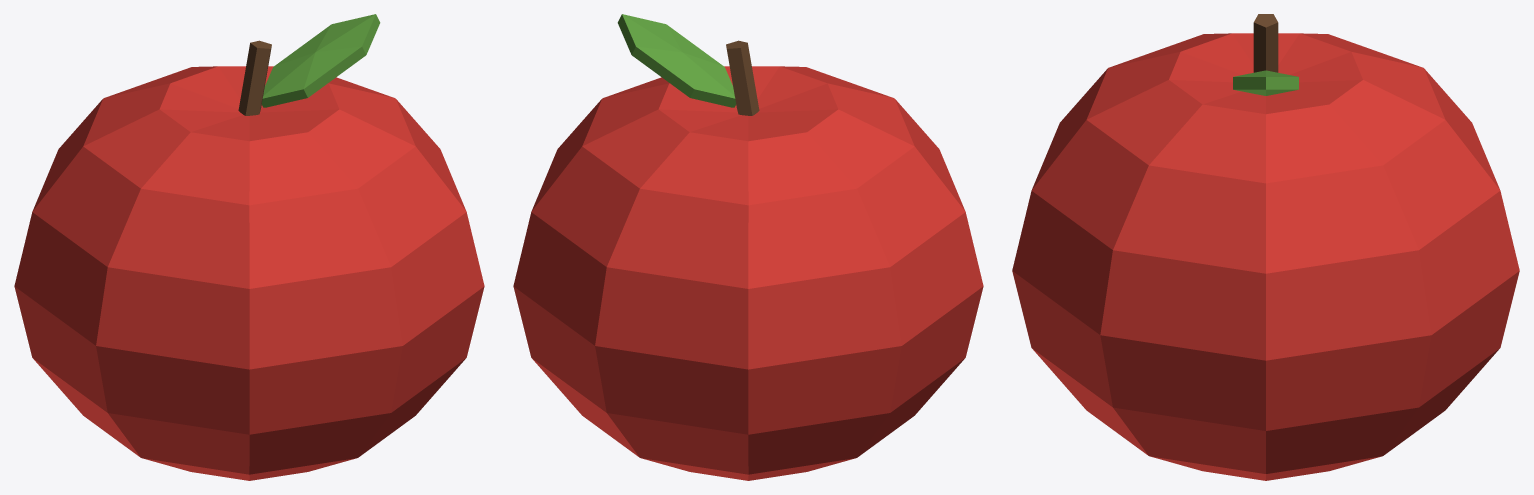
Rendered from Food_Apple.obj.
3 renders of one model, left to right at view 1: azimuth 30°, elevation 25°; view 2: azimuth 150°, elevation 25°; view 3: azimuth 270°, elevation 25°, orthographic. The views are drawn at different scales.
Bounding box in the file's own units: 1.94 × 1.84 × 1.97.
